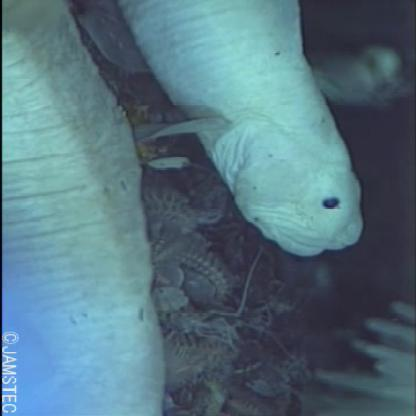Bio: (113, 1, 372, 263)
